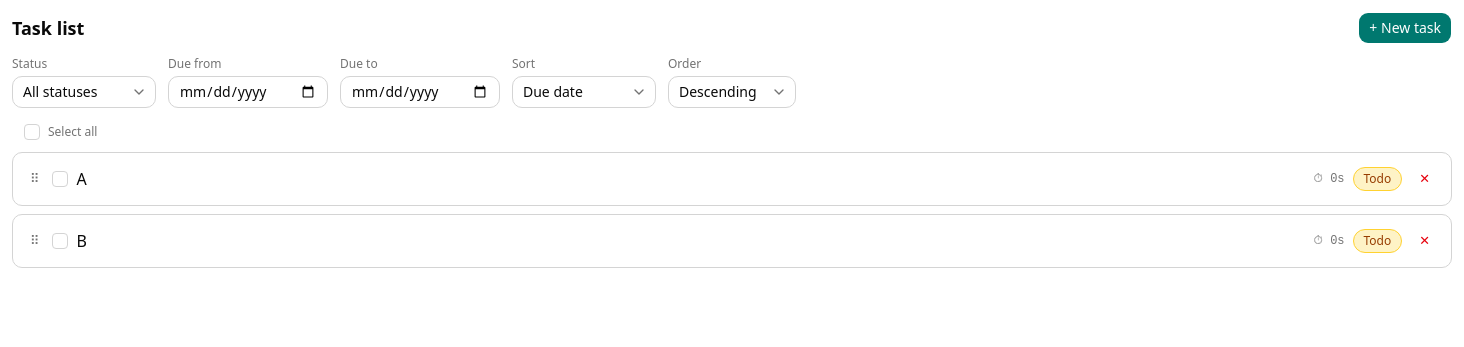
Scenario: ProjectTaskList › 'Select all' checkbox selects/deselects every displayed task
The image size is (1464, 347).
Click the checkbox named "Select all". click: coordinates (32, 132)
box: [24,124,40,140]
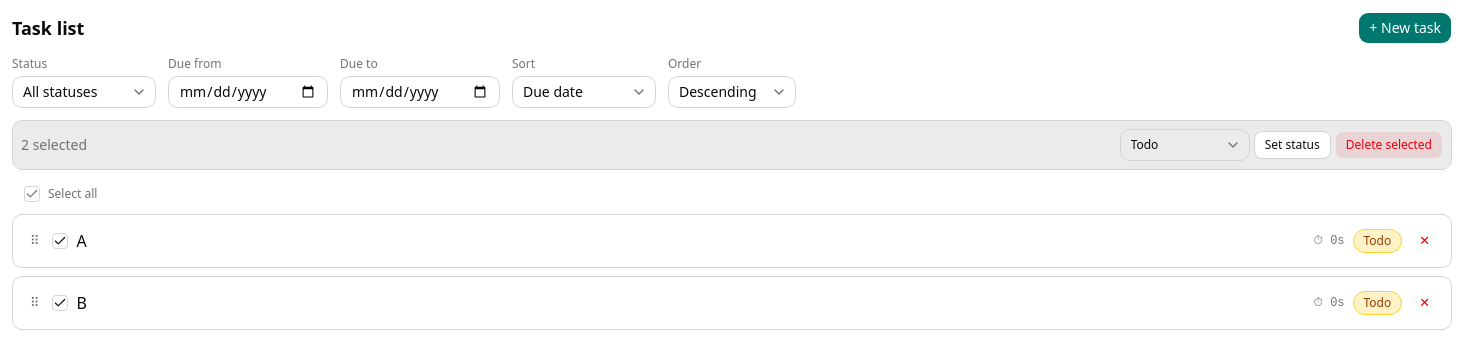
Now the text "2 selected" is shown, box [21,135,87,155]
Click the checkbox named "Select all". click: coordinates (32, 194)
box: [24,186,40,202]
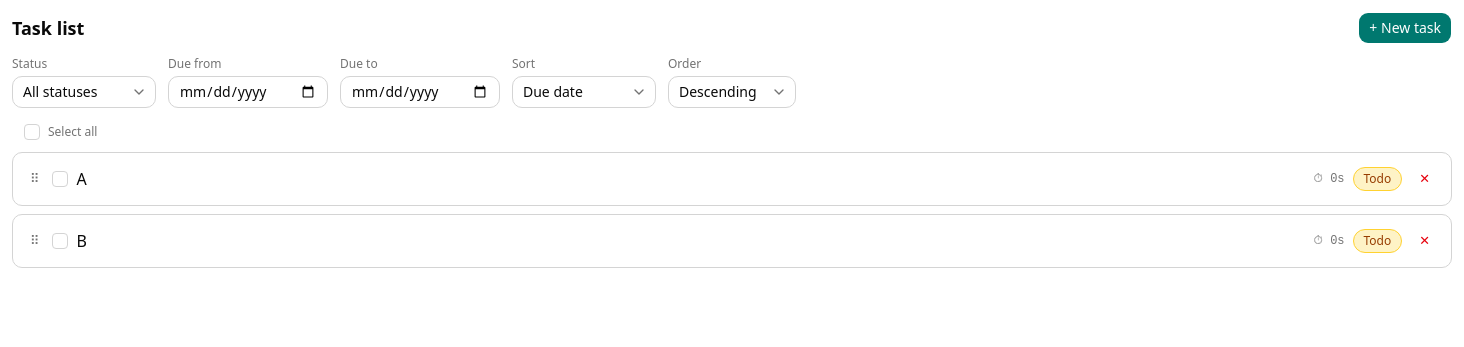
Now the button "Set status" is gone
